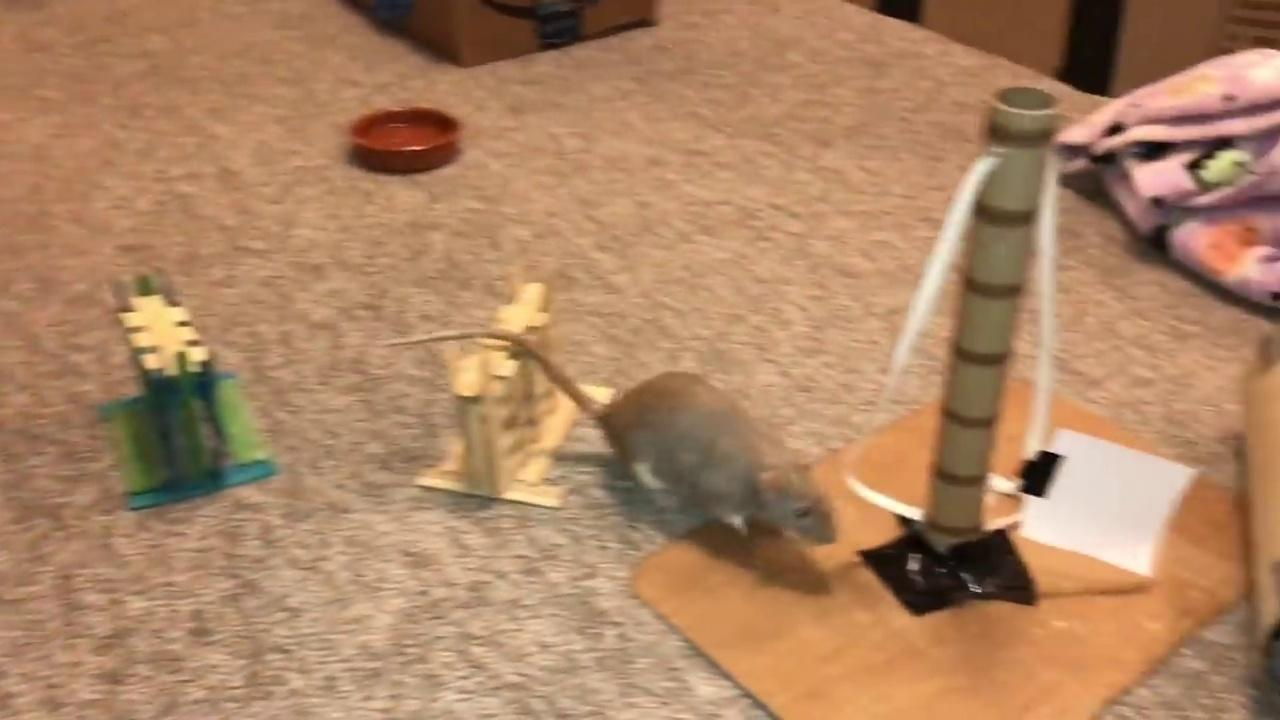rat: (605, 360, 842, 562)
